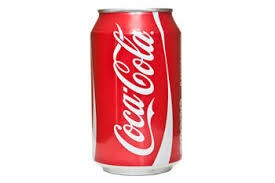coke: (86, 7, 187, 179)
